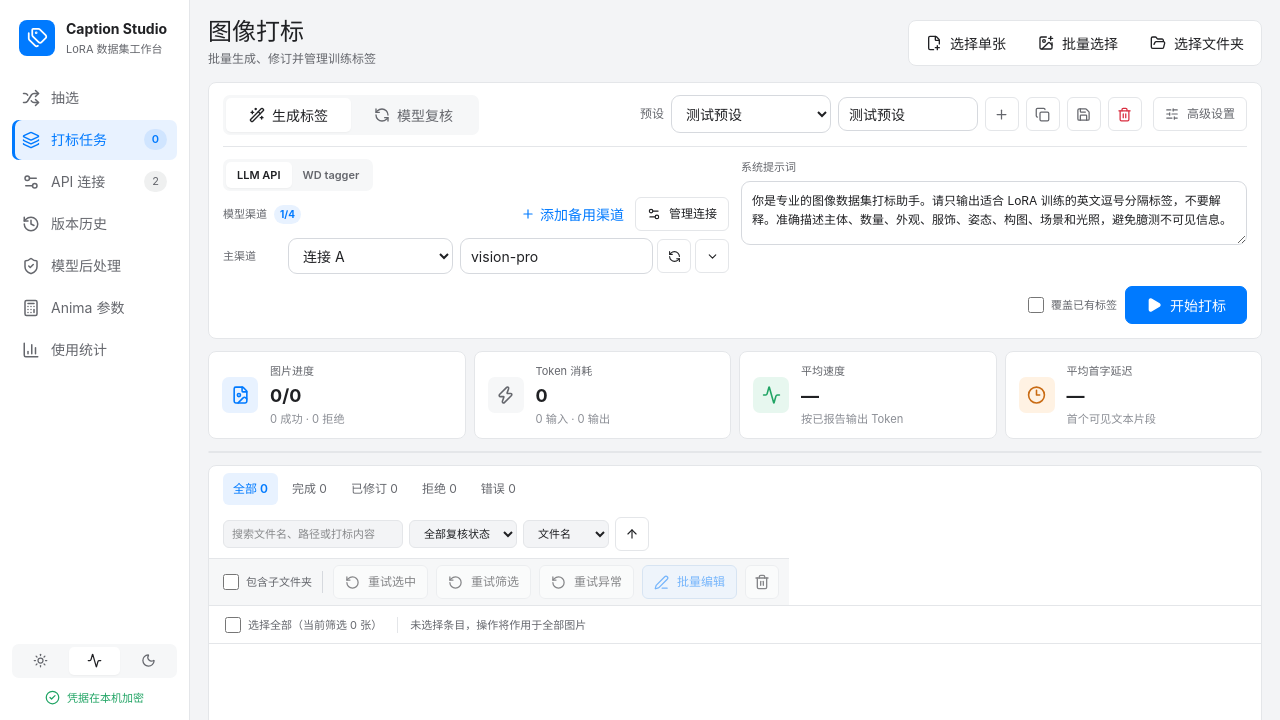
Scenario: App preset management › restores the connection's last model when switching channels
Expected: the field named "渠道 1 模型" holds "vision-pro", [460, 238, 653, 274]
Select "连接 B" in the dropdown named "渠道 1 连接" at (370, 256), box [288, 238, 453, 274]
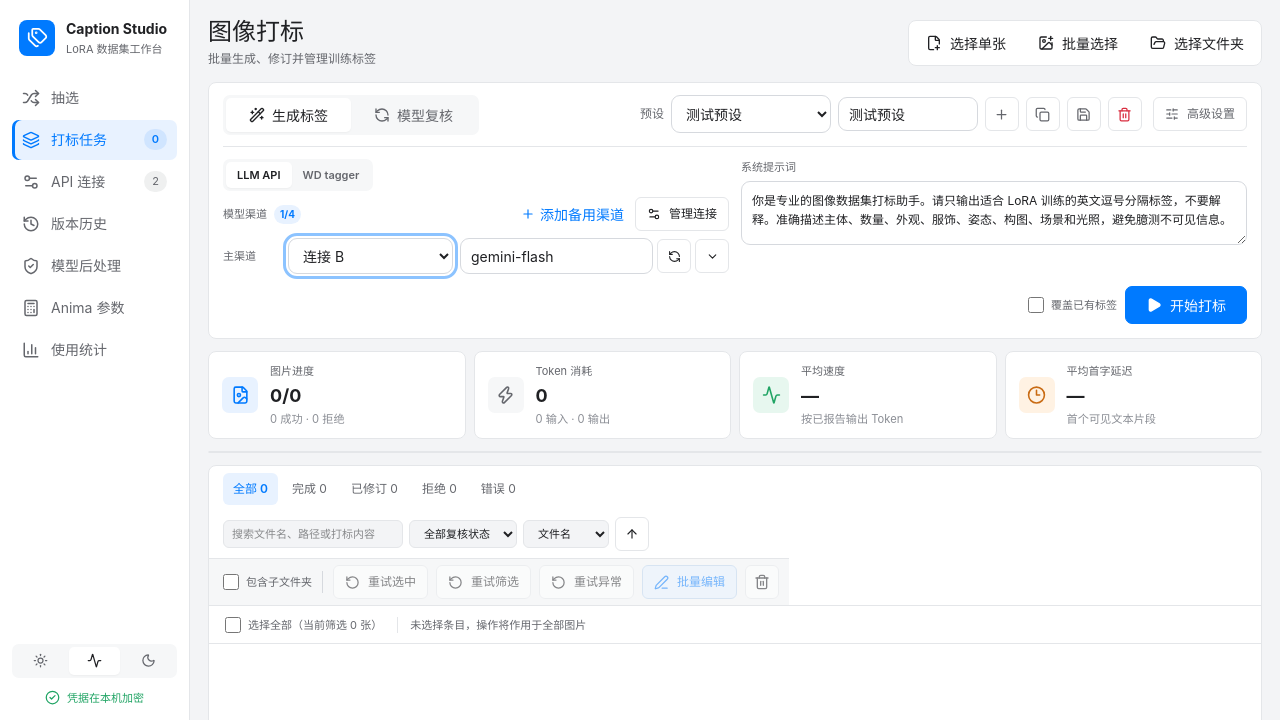
Now the field named "渠道 1 模型" holds "gemini-flash", box [460, 238, 653, 274]
